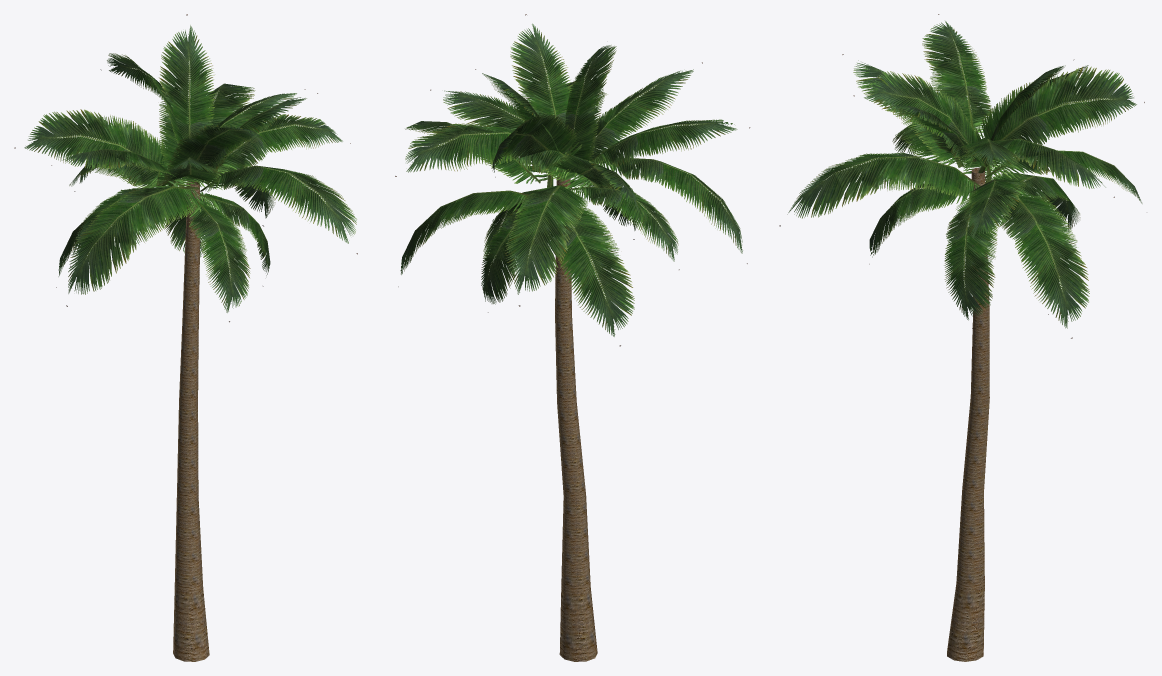
The model's file is Palm-03.fbx.
3 renders of one model, left to right at view 1: azimuth 30°, elevation 25°; view 2: azimuth 150°, elevation 25°; view 3: azimuth 270°, elevation 25°, orthographic. The views are drawn at different scales.
Visible parts, largest first — view 1: palm-03; view 2: palm-03; view 3: palm-03.
Part boxes in pixels (box(x1,y1,x2,y2)): palm-03: box(14, 14, 357, 661); palm-03: box(395, 14, 750, 661); palm-03: box(779, 14, 1144, 661).
Bounding box in the file's own units: 3.72 × 6.63 × 3.57.
